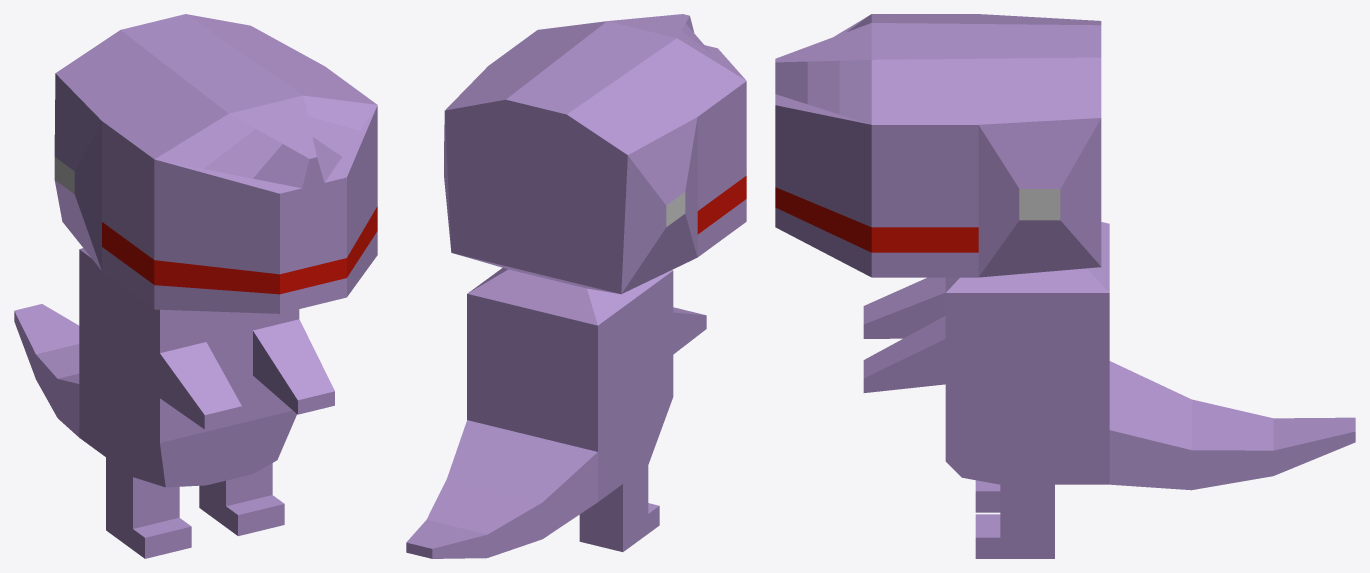
Rendered from Dino Model.fbx.
3 views of the same model, side by side, from view 1: azimuth 30°, elevation 25°; view 2: azimuth 150°, elevation 25°; view 3: azimuth 270°, elevation 25° (orthographic). The views are drawn at different scales.
Visible parts, largest first — view 1: Dinosaur; view 2: Dinosaur; view 3: Dinosaur.
Boxes of the visible parts, bbox=[...] form: Dinosaur: bbox=[14, 14, 377, 558]; Dinosaur: bbox=[406, 14, 746, 558]; Dinosaur: bbox=[775, 14, 1355, 558].
Bounding box in the file's own units: 3.4 × 6.5 × 7.08.
